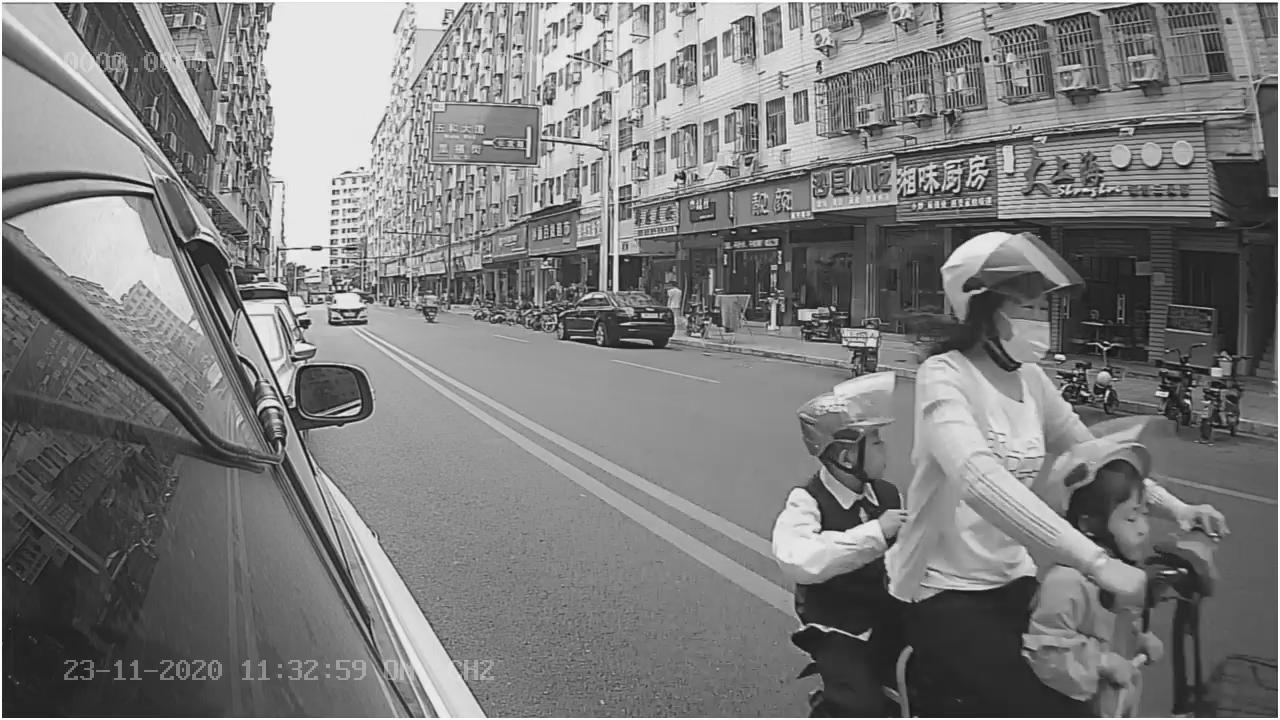person: (915, 229, 1165, 545)
